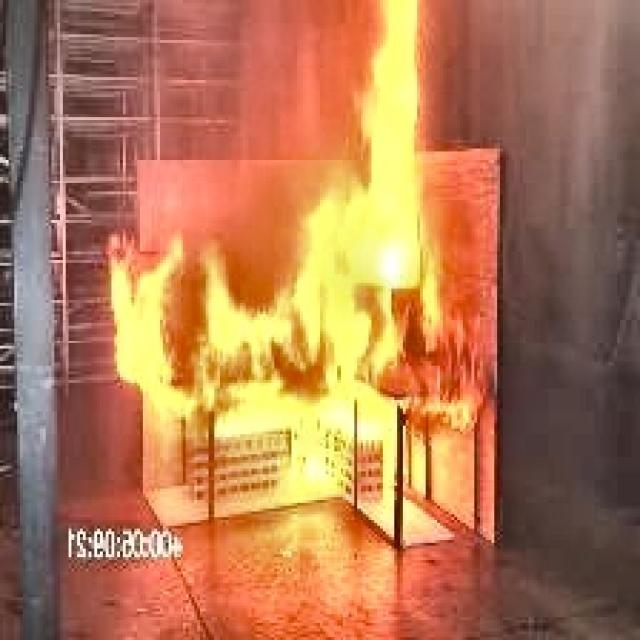fire: (106, 1, 474, 510)
